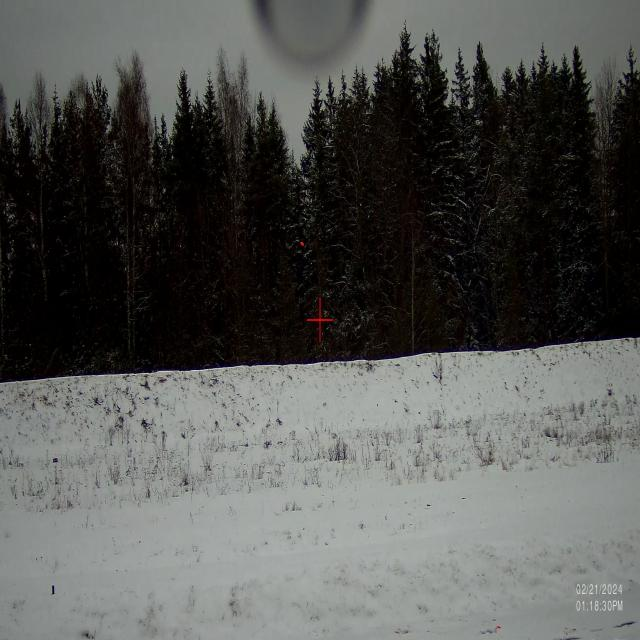entire: (297, 236, 307, 249)
